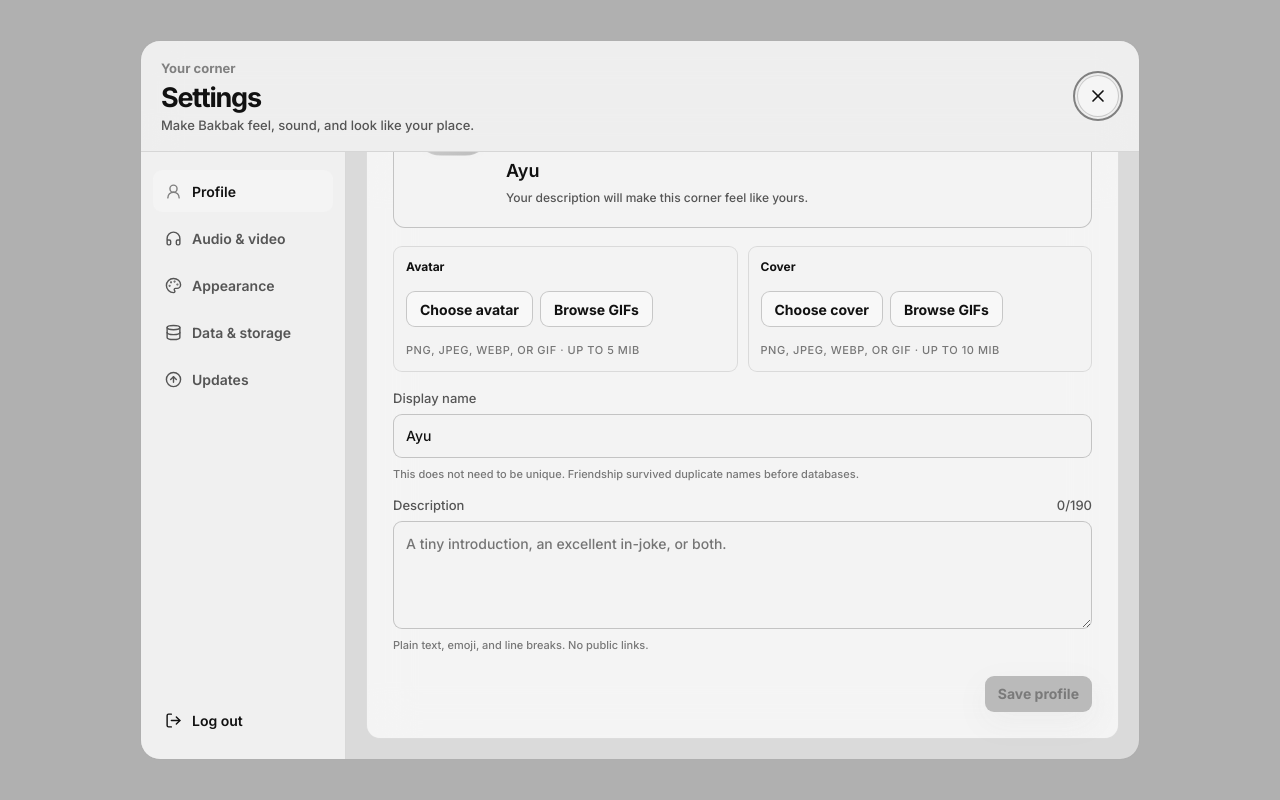
SettingsPage › keeps a failed draft for retry and reflects dirty state
(page scrolled)
Check: the button "Save profile" is disabled, box [985, 676, 1092, 712]
Type "Retry this excellent tangent." into the text box labelled "Description 0/190" at (742, 575), box [393, 521, 1092, 629]
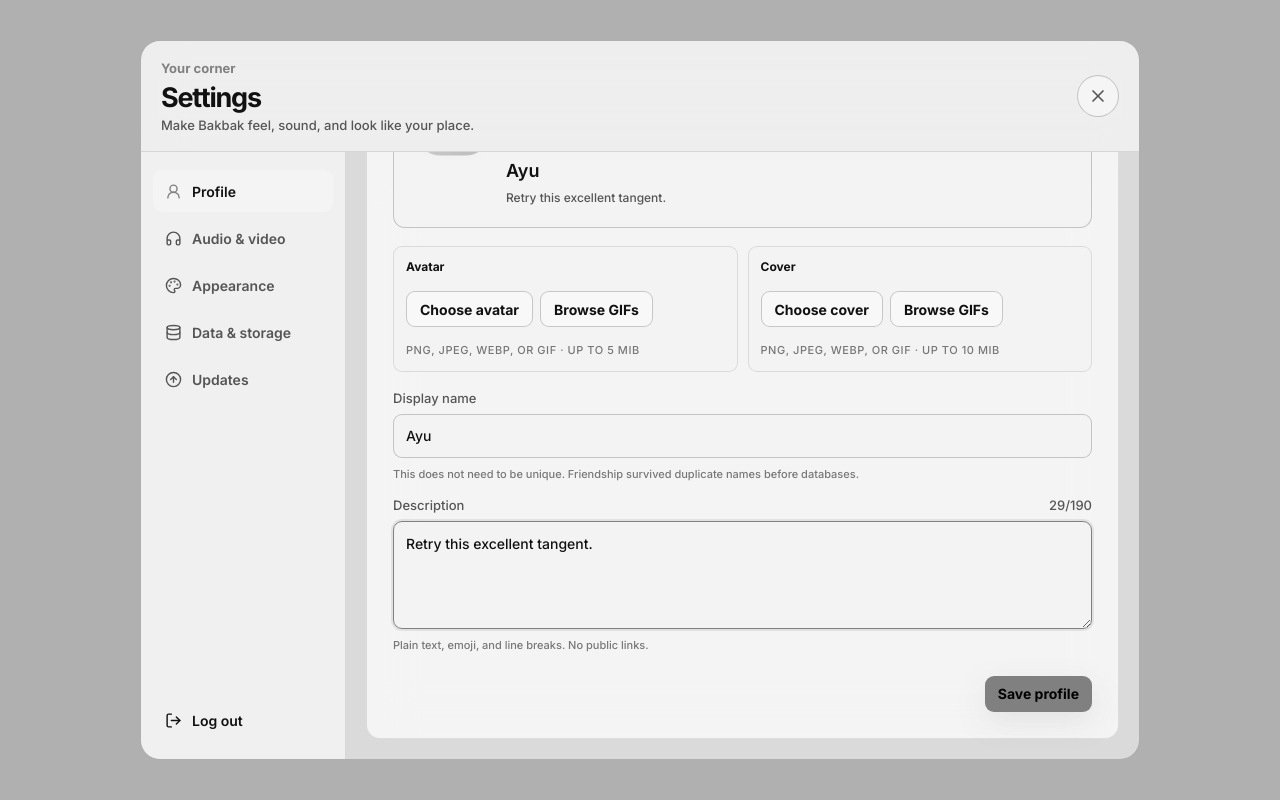
Check: the button "Save profile" is enabled
Click the button "Save profile" at (1038, 694), box [985, 676, 1092, 712]
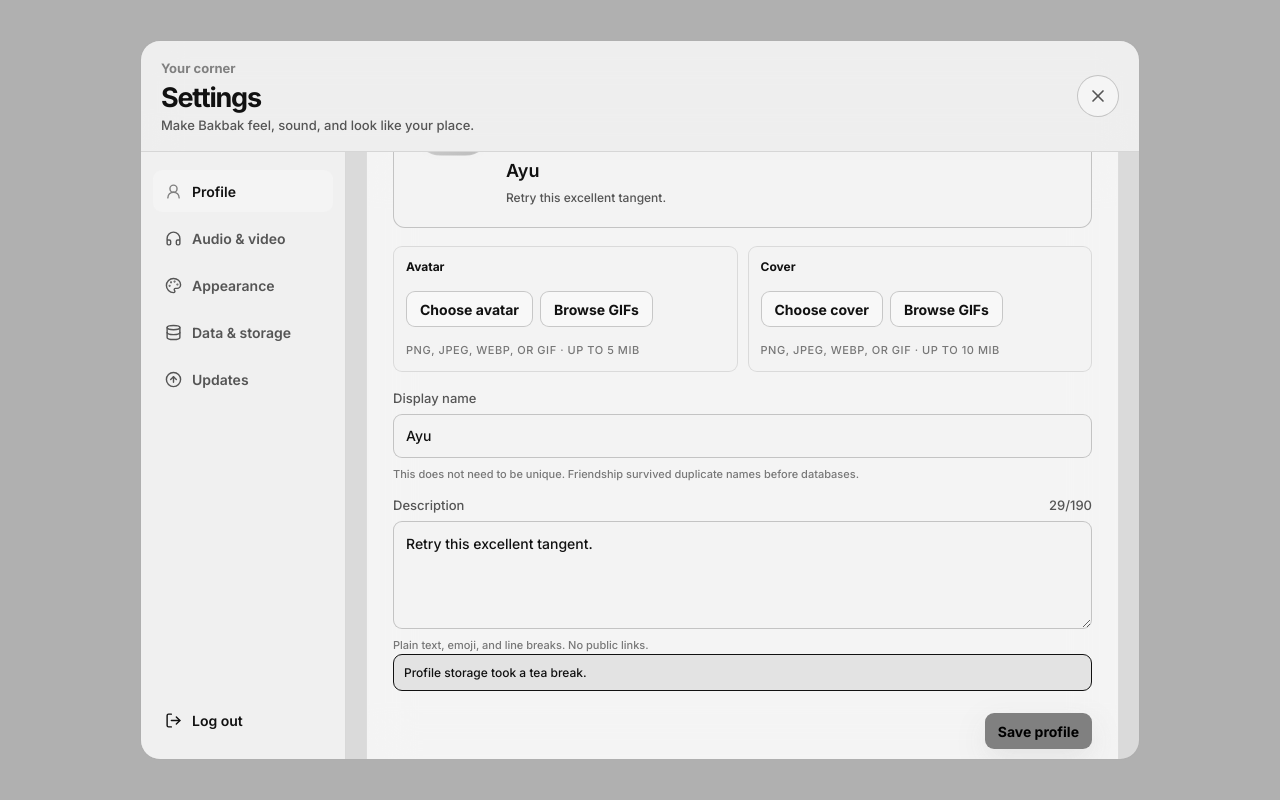
Check: the button "Save profile" is enabled
Check: the message reads "Profile storage took a tea break.", box [404, 665, 587, 680]
Click the button "Save profile" at (1038, 731), box [985, 713, 1092, 749]
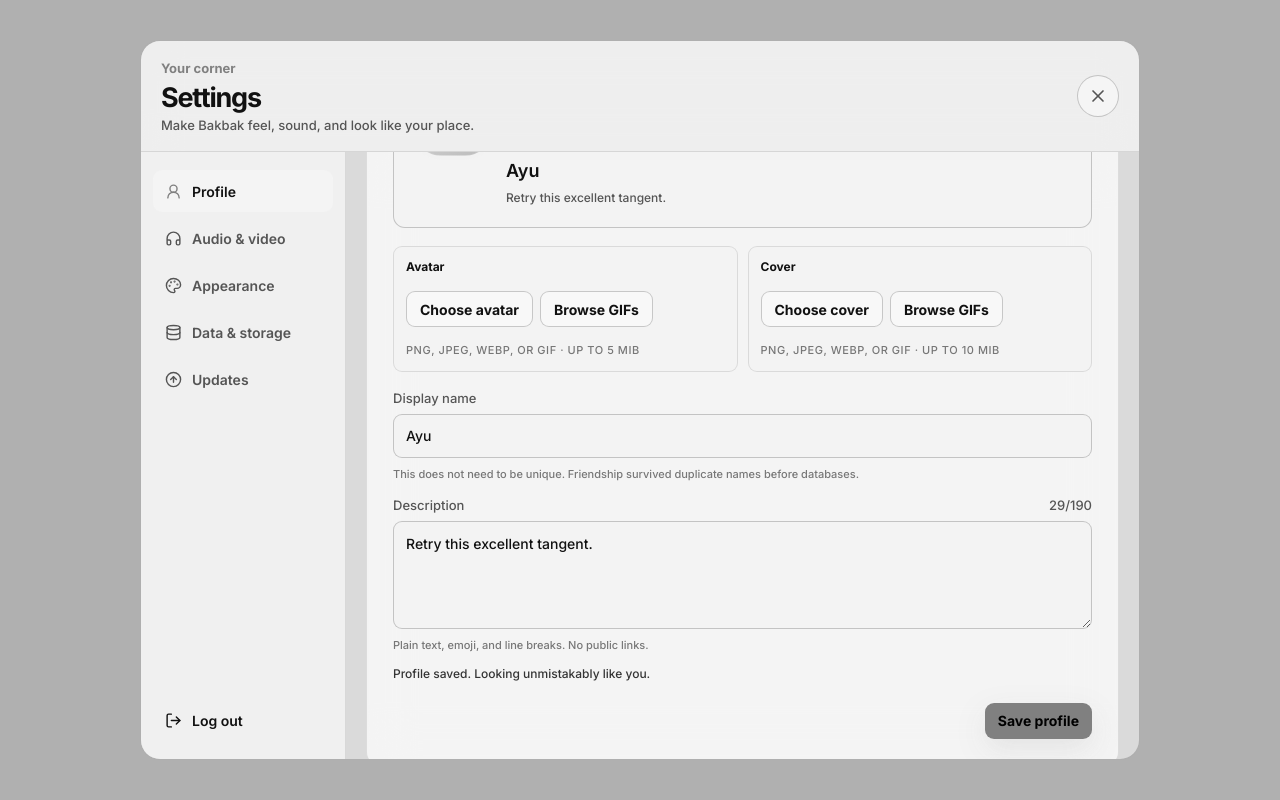
Check: the message shows "Profile saved", box [393, 666, 650, 681]
